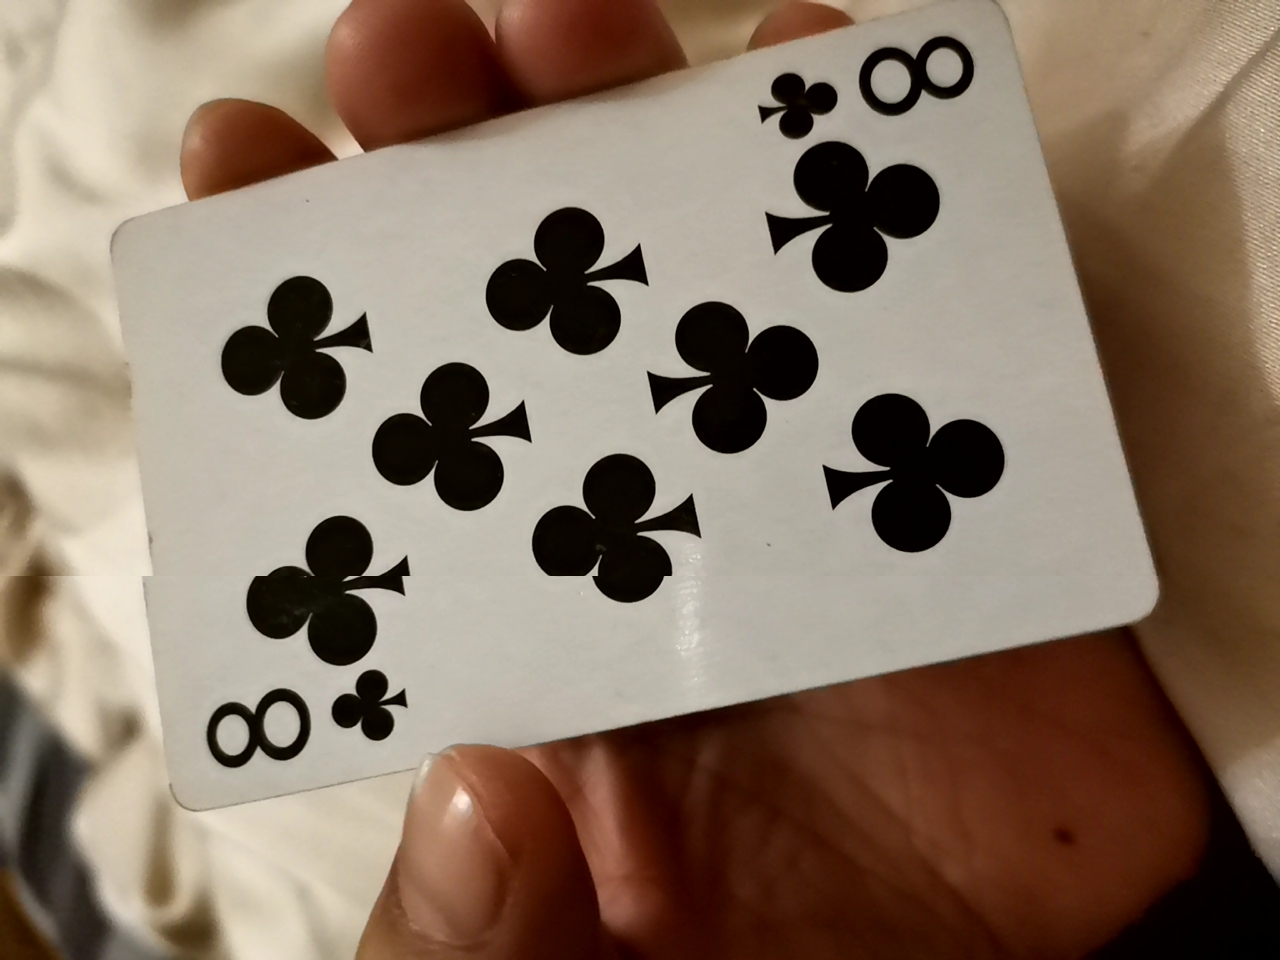mh 8: (85, 16, 1186, 860)
